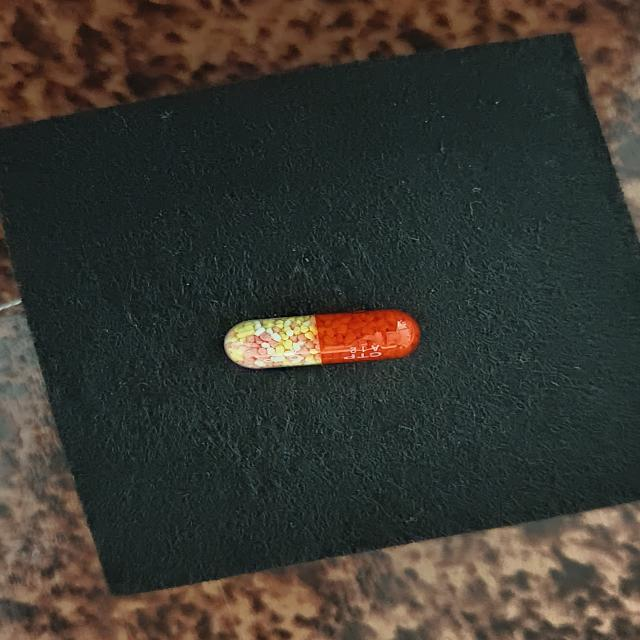Intact Capsule: (224, 309, 421, 369)
